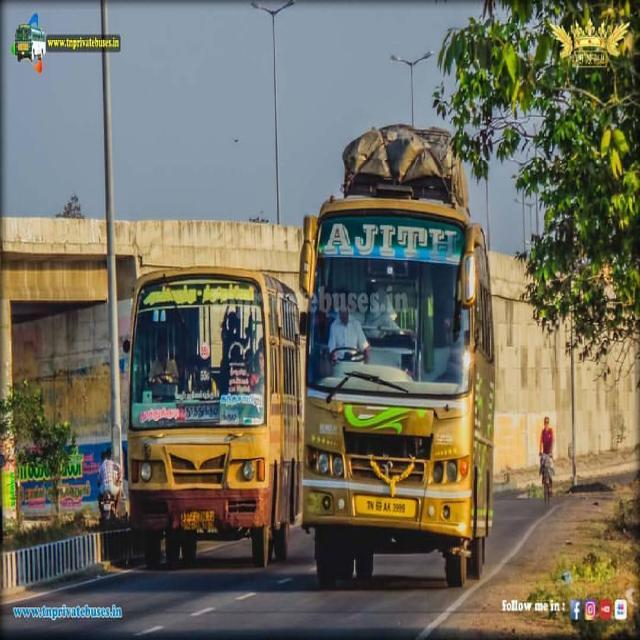Bus: (296, 123, 499, 603), (122, 267, 300, 573)
